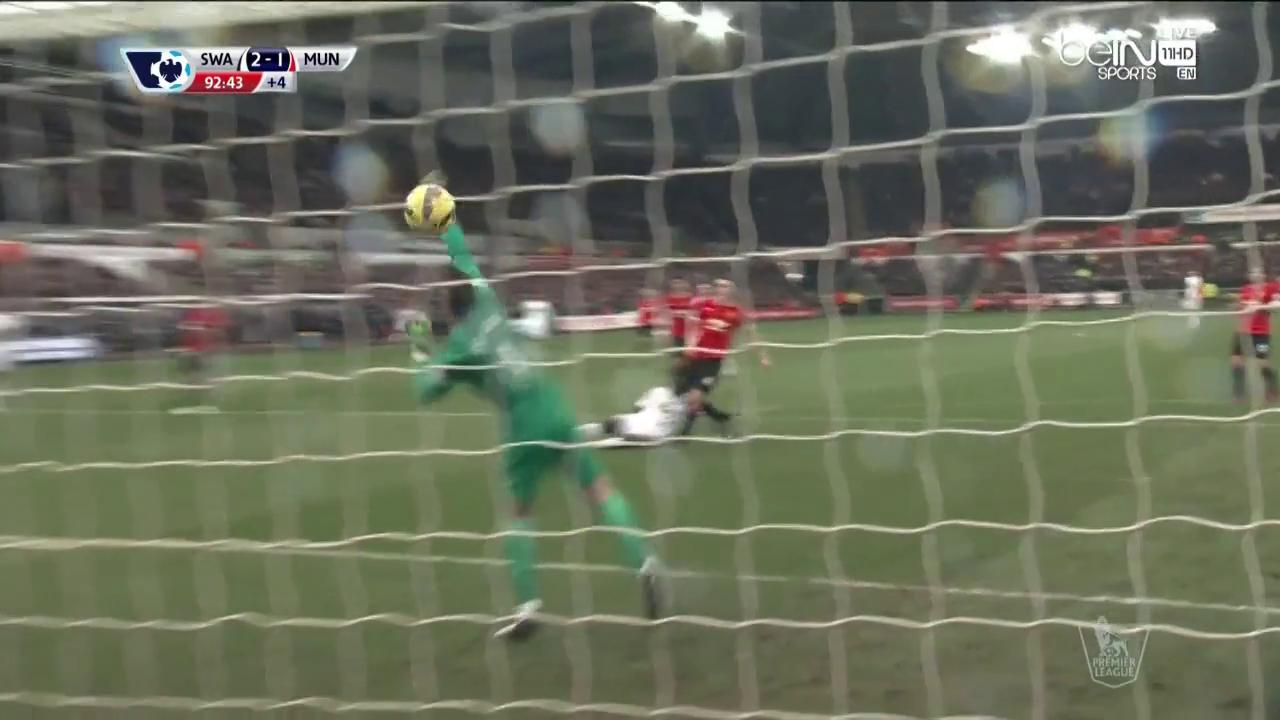football: (404, 181, 457, 235)
